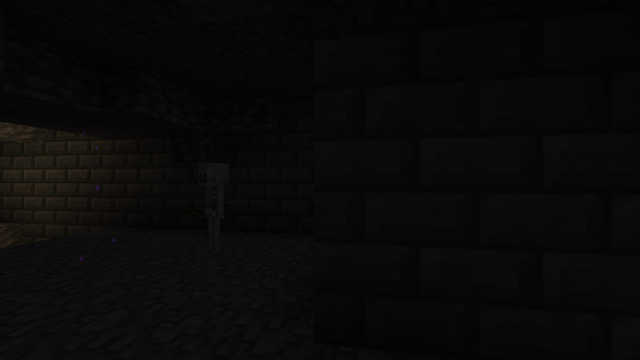squelettes: (193, 163, 231, 253)
